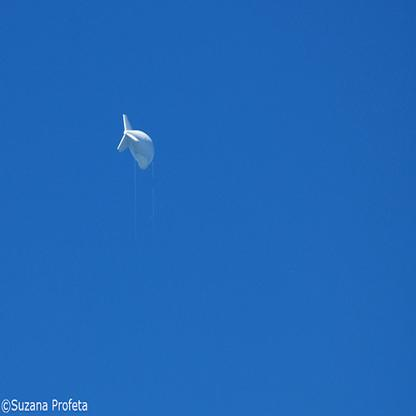Airship: (110, 111, 160, 180)
